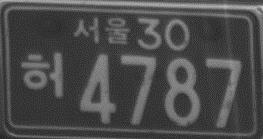0: (164, 18, 191, 52)
3: (136, 15, 162, 52)
4: (77, 52, 117, 124)
7: (118, 52, 158, 126), (204, 56, 243, 131)
8: (163, 57, 201, 125)
서울_O: (73, 15, 130, 47)
허: (21, 49, 65, 100)
